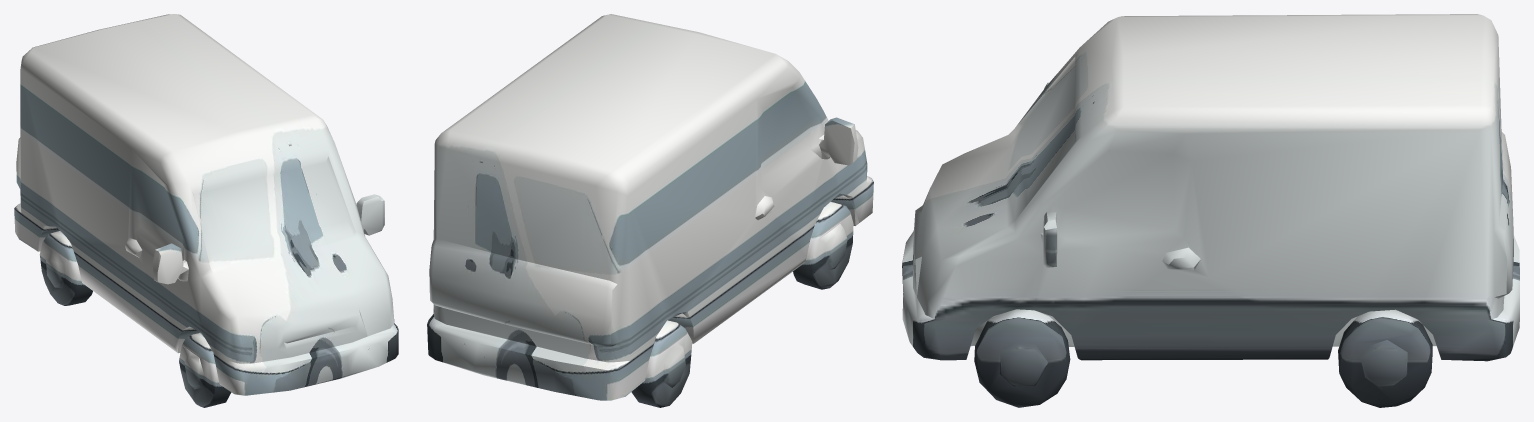
3 renders of one model, left to right at view 1: azimuth 30°, elevation 25°; view 2: azimuth 150°, elevation 25°; view 3: azimuth 270°, elevation 25°, orthographic. The views are drawn at different scales.
Parts seen in each view (by area): view 1: Decor_delivery_van_a; view 2: Decor_delivery_van_a; view 3: Decor_delivery_van_a.
Part boxes in pixels (box(x1,y1,x2,y2)): Decor_delivery_van_a: box(14, 14, 398, 407); Decor_delivery_van_a: box(427, 14, 873, 407); Decor_delivery_van_a: box(902, 14, 1519, 407).
Size of the model in its own units: 2.32 by 2.2 by 4.13.
1 material, 1 textured.
